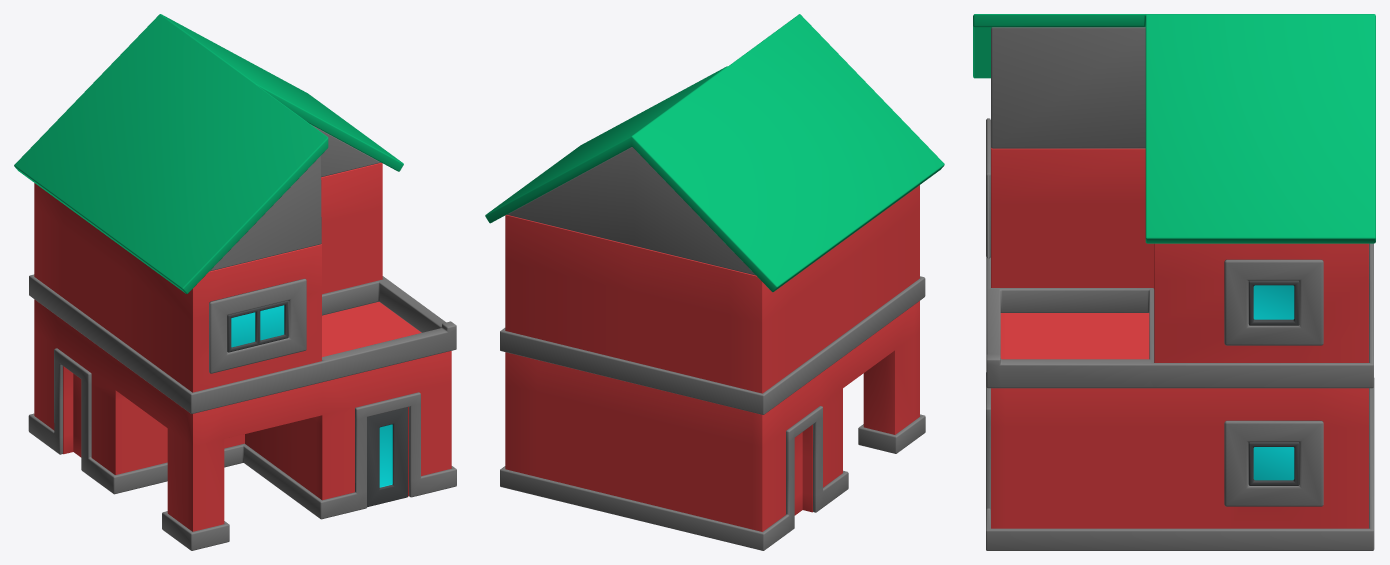
Rendered from Rumah.fbx.
The picture shows the model from 3 angles, left to right: view 1: azimuth 30°, elevation 25°; view 2: azimuth 150°, elevation 25°; view 3: azimuth 270°, elevation 25°; orthographic projection. The views are drawn at different scales.
Parts seen in each view (by area): view 1: Cube.010, Cube, Cube.005, Cube.006, Cube.009, Cube.002, Cube.004, Cube.001, Cube.008; view 2: Cube.010, Cube.005, Cube, Cube.002, Cube.009, Cube.006; view 3: Cube.010, Cube, Cube.005, Cube.002, Cube.006, Cube.004, Cube.009, Cube.007, Cube.003.
Boxes of the visible parts, x1,y1,x2,y2 form: Cube.010: [14, 14, 403, 293]; Cube: [34, 299, 451, 531]; Cube.005: [34, 162, 382, 392]; Cube.006: [29, 274, 456, 413]; Cube.009: [28, 348, 456, 550]; Cube.002: [209, 125, 380, 271]; Cube.004: [209, 278, 306, 373]; Cube.001: [367, 407, 407, 507]; Cube.008: [227, 300, 288, 352]; Cube.010: [485, 14, 944, 292]; Cube.005: [505, 185, 919, 393]; Cube: [505, 301, 919, 531]; Cube.002: [507, 147, 755, 275]; Cube.009: [500, 406, 925, 550]; Cube.006: [500, 276, 925, 414]; Cube.010: [973, 14, 1375, 243]; Cube: [991, 313, 1368, 528]; Cube.005: [991, 147, 1368, 362]; Cube.002: [991, 27, 1145, 148]; Cube.006: [986, 243, 1373, 388]; Cube.004: [986, 118, 1323, 506]; Cube.009: [986, 372, 1374, 550]; Cube.007: [1248, 280, 1299, 325]; Cube.003: [1248, 442, 1299, 485].
Size of the model in its own units: 3.54 by 4.45 by 3.52.
